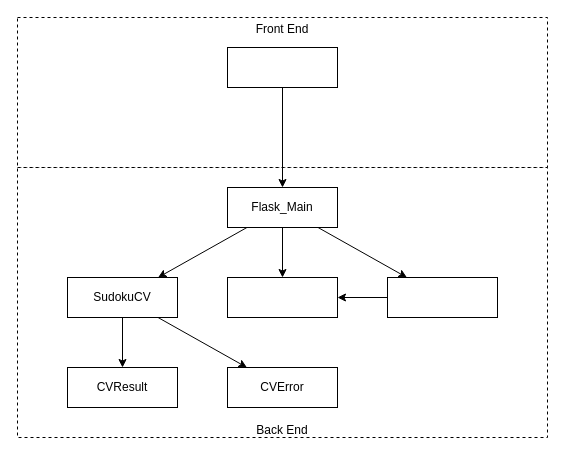
The diagram is 565 pixels wide and 455 high, and some of its shapes have lost their labels. The shapes that lost their labels are listed below. From the top down, each one's centre as x and y in pixels, then its label:
[282,67]: GUI
[282,297]: Solver
[442,297]: Generator
